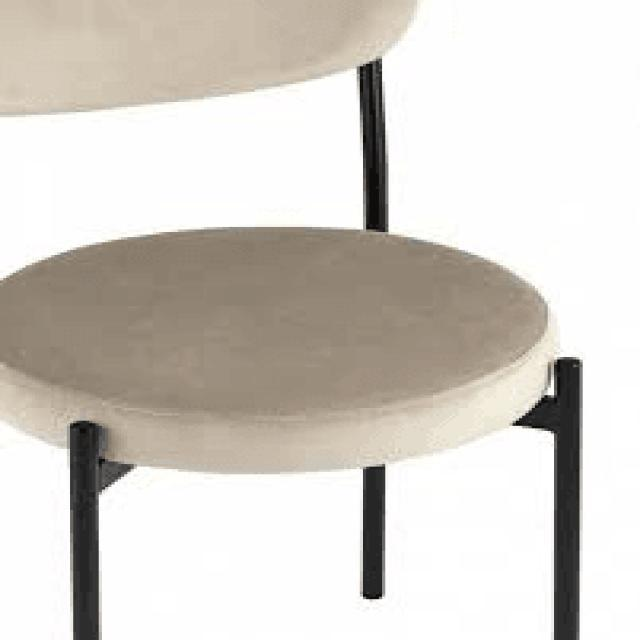chair: (0, 0, 589, 640), (5, 0, 594, 434)
